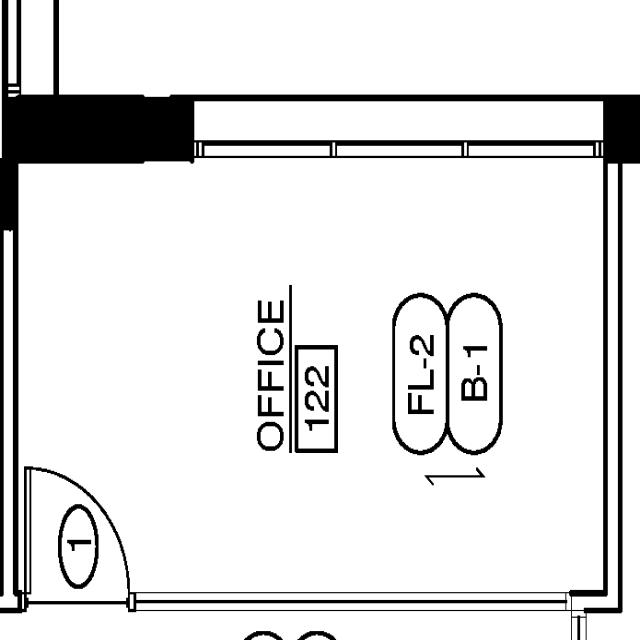Doors: (19, 462, 136, 616)
